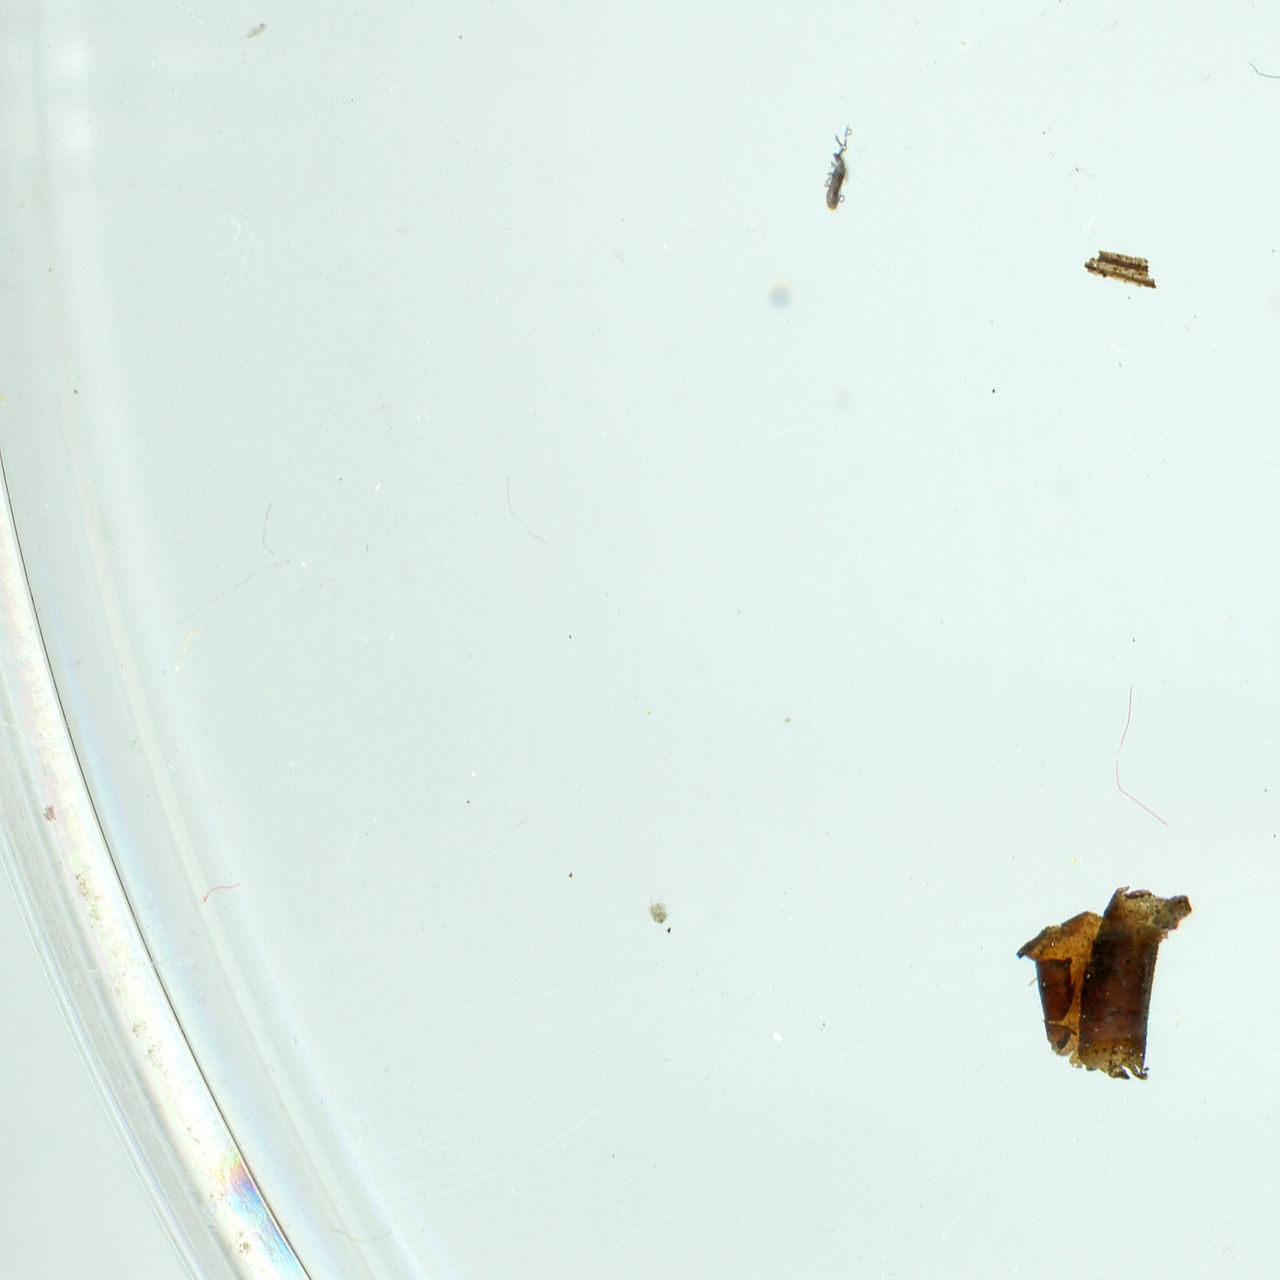arthropod: (824, 119, 856, 221)
